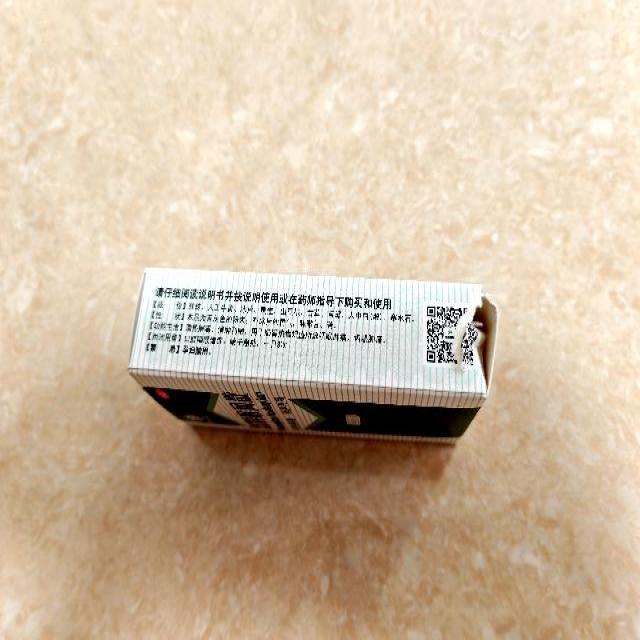box: (126, 268, 500, 448)
